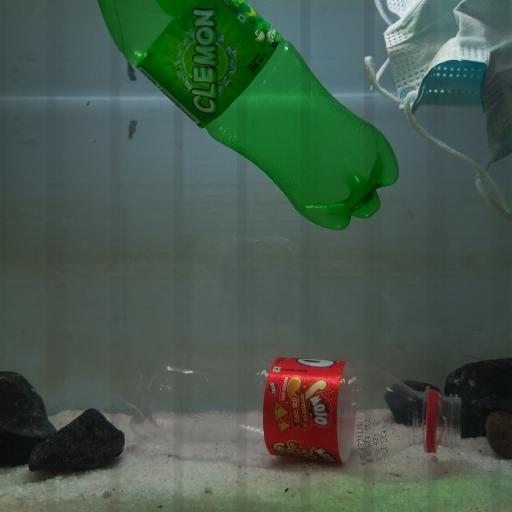mask: (365, 0, 512, 220)
plastic_bottle: (96, 0, 398, 231), (120, 352, 461, 463)
